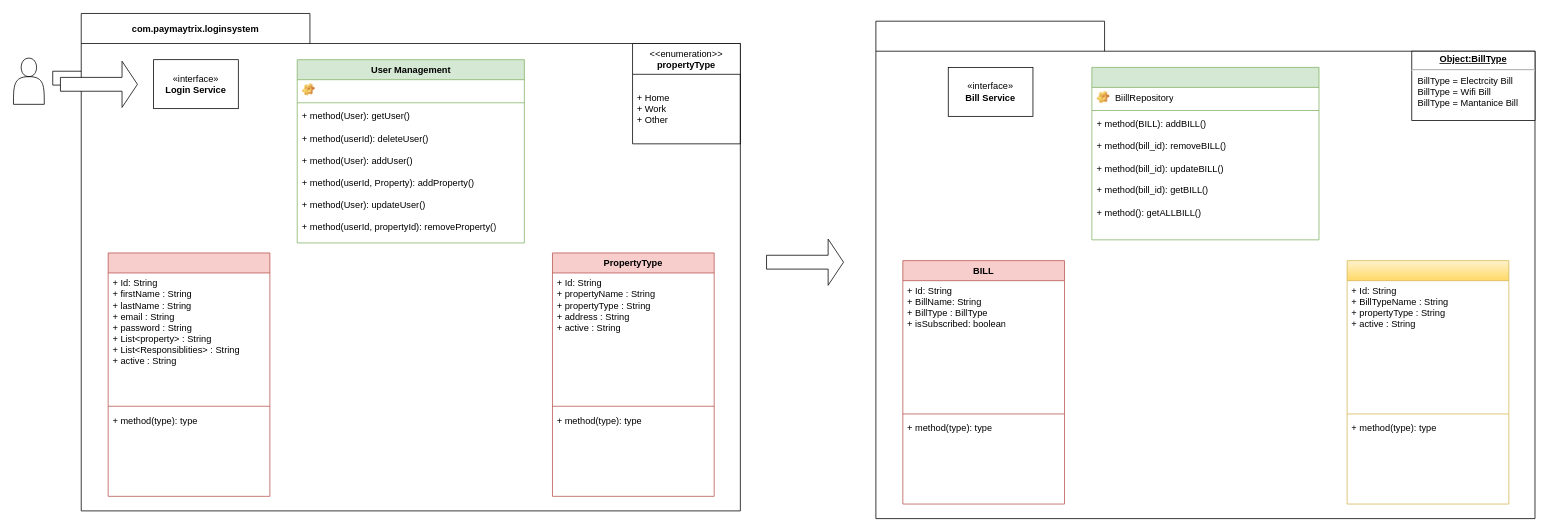
Image size: 1548x532. Some labels were removed from this diagram. The box of each missing label's shape, as (x1, y1, x2, y2) in pixels:
Bill Management: (1091, 67, 1319, 240)
BillType <<Interface>>: (1346, 260, 1509, 504)
com.paymaytrix.billmanagement: (875, 20, 1535, 519)
LoginRepository: (297, 79, 524, 99)
User: (107, 252, 270, 496)
